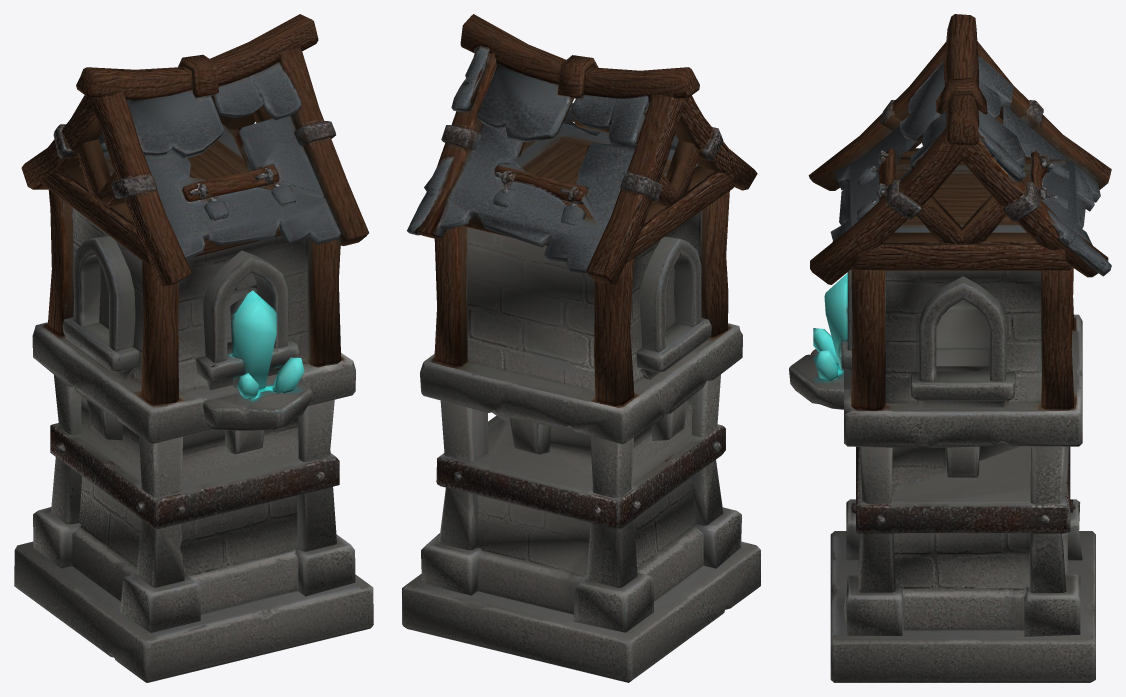
The model's file is tripo_convert_c6654e13-85f5-4b8d-89a0-dc805d49bf8f.fbx.
The picture shows the model from 3 angles, left to right: view 1: azimuth 30°, elevation 25°; view 2: azimuth 150°, elevation 25°; view 3: azimuth 270°, elevation 25°; orthographic projection.
Visible parts, largest first — view 1: tripo_node_c6654e13; view 2: tripo_node_c6654e13; view 3: tripo_node_c6654e13.
Part boxes in pixels (x1,y1,x2,y2): tripo_node_c6654e13: (14,14,373,682); tripo_node_c6654e13: (402,14,760,682); tripo_node_c6654e13: (789,14,1111,682).
Bounding box in the file's own units: 0.4316 × 0.998 × 0.5176.
1 material, 1 textured.
